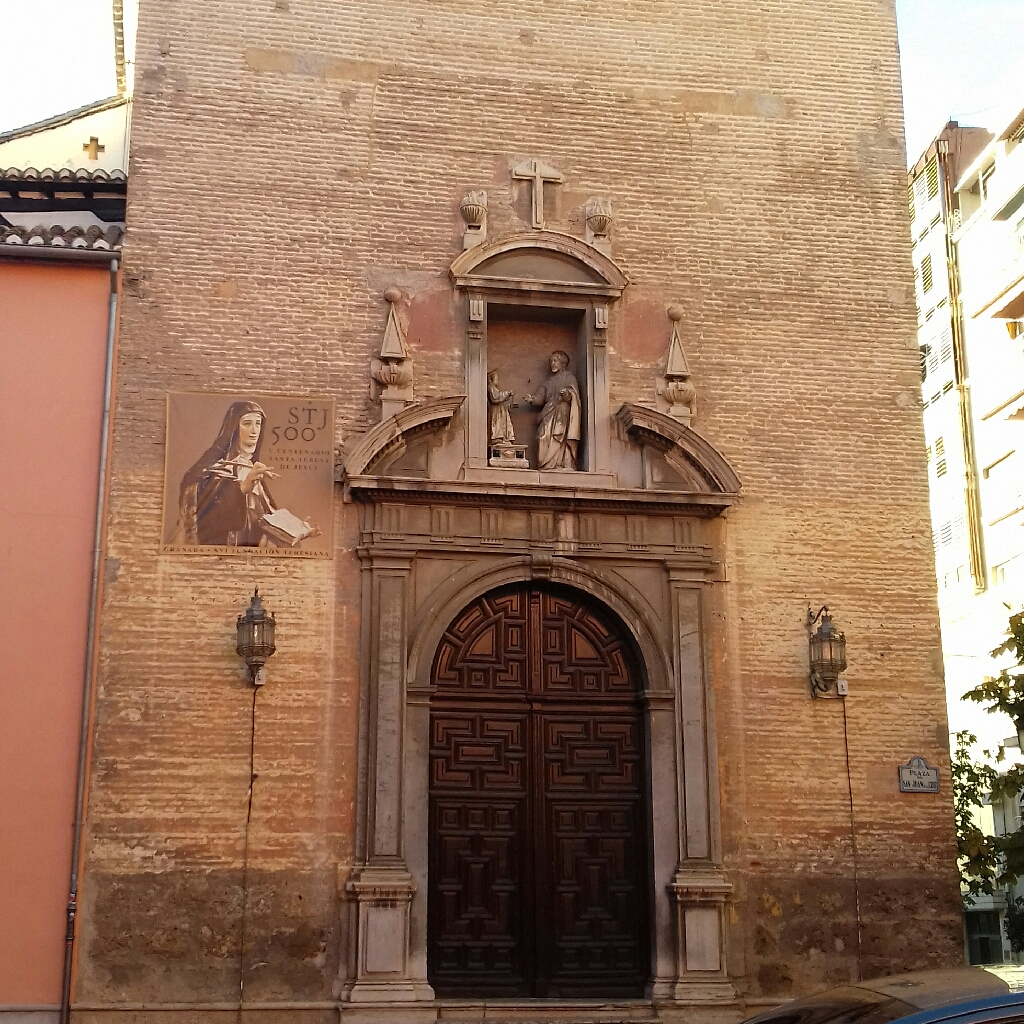arco-medio-punto: (419, 566, 666, 724)
fronton-curvo: (442, 229, 635, 298)
fronton-partido: (342, 395, 741, 505)
vano-adintelado: (465, 290, 605, 461)
